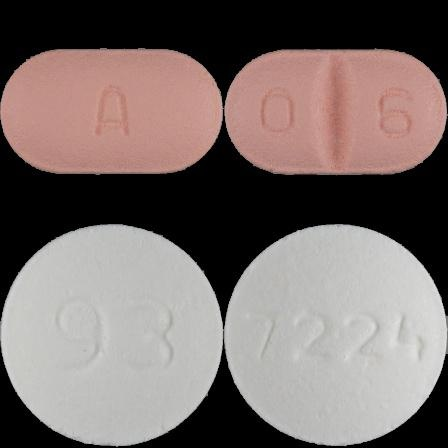54868-5178: (0, 0, 224, 224)
